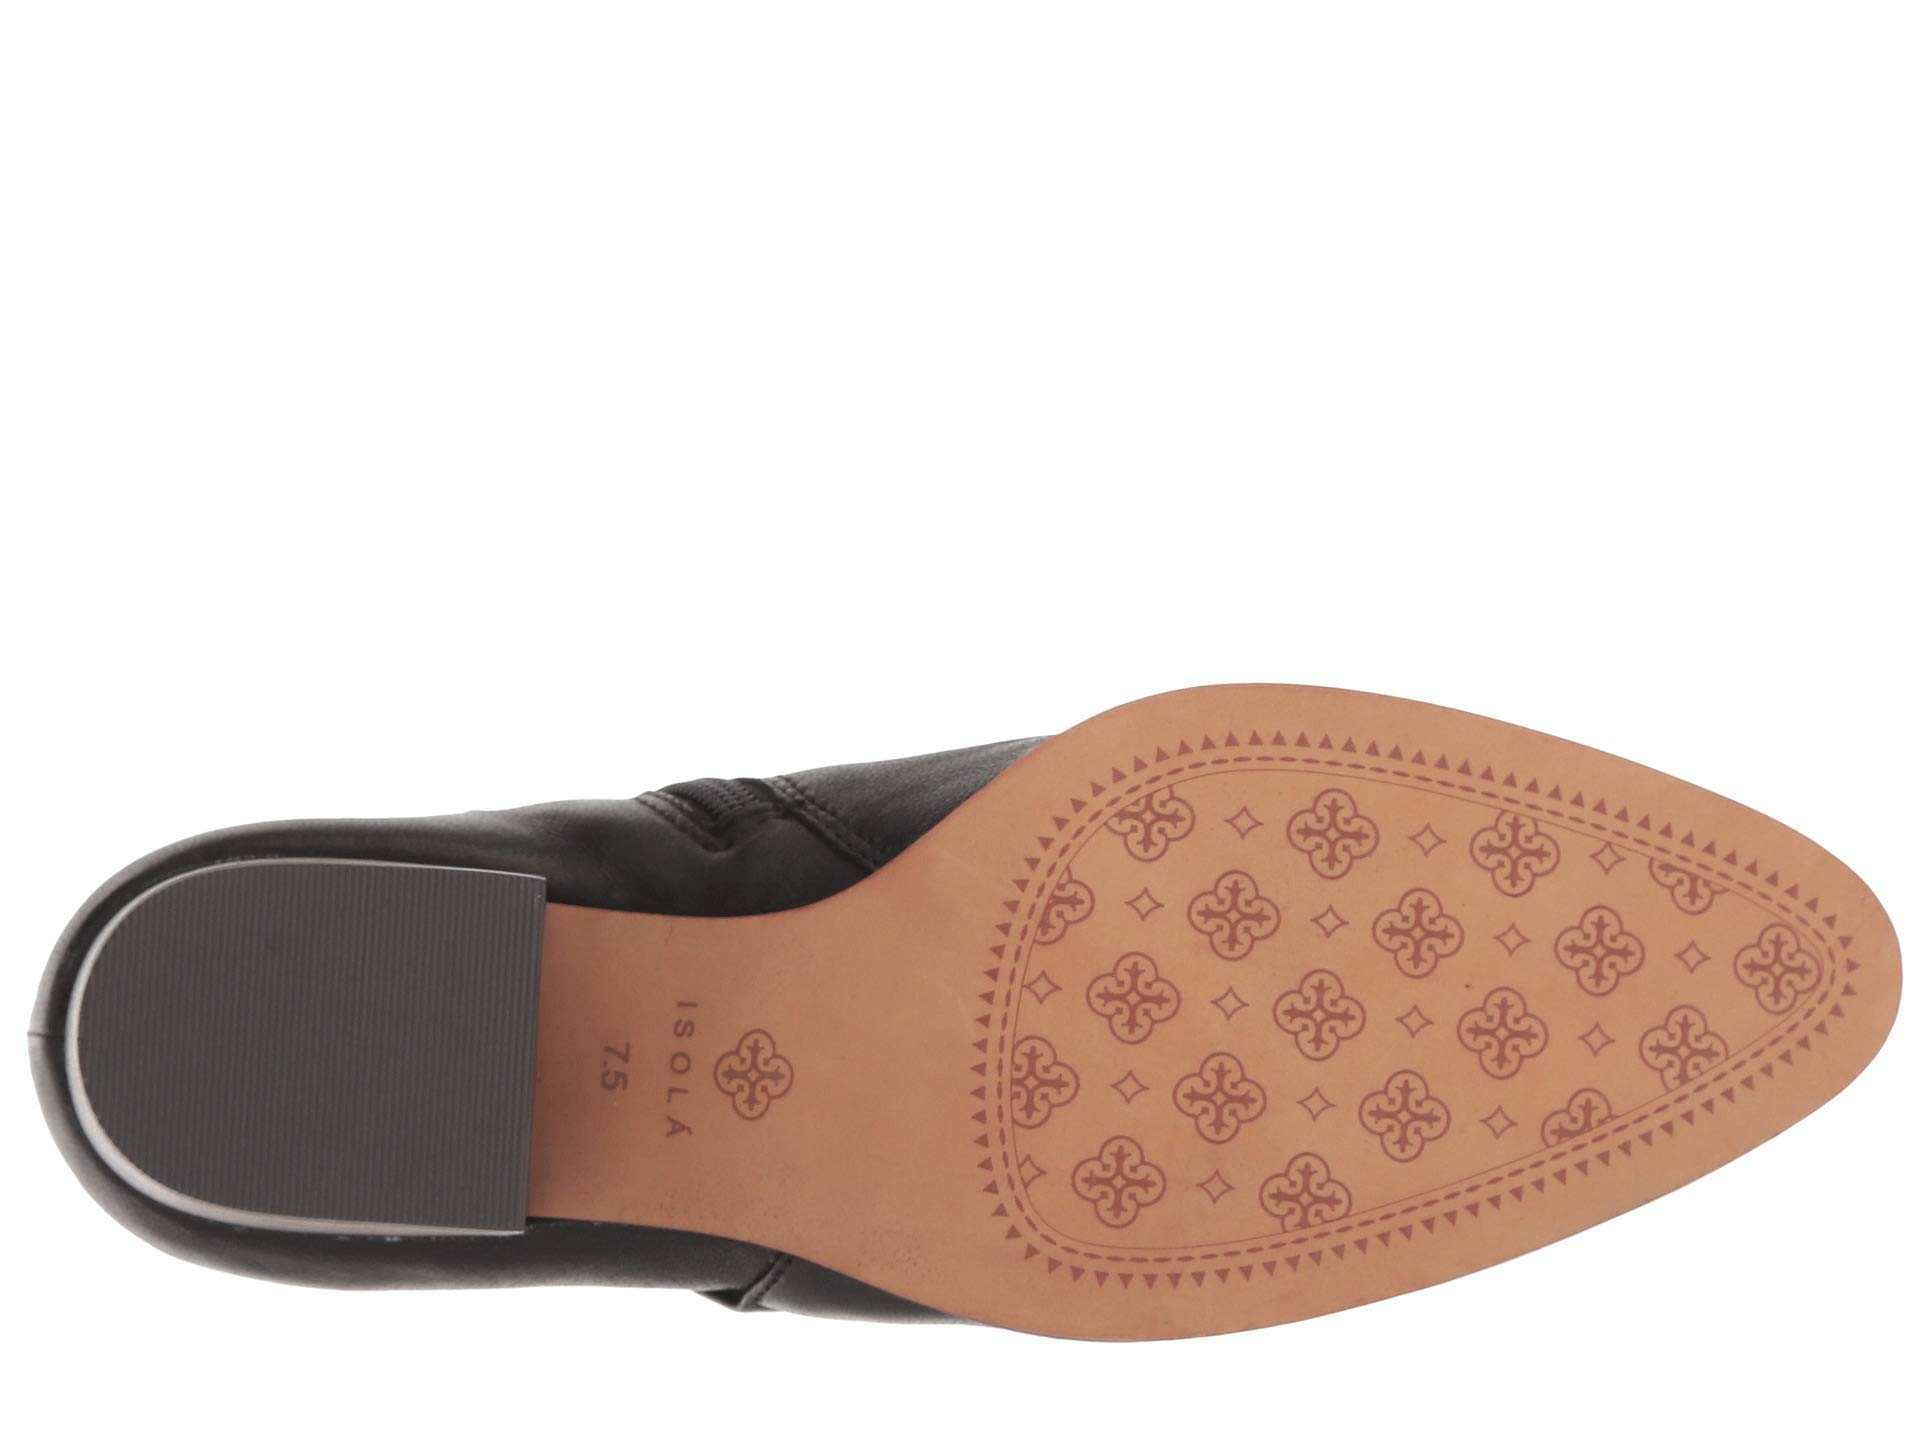quad: (1137, 811, 1495, 1186)
star: (1137, 811, 1495, 1186)
